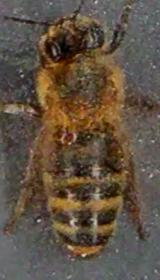varroa_mite: (48, 120, 81, 148)
